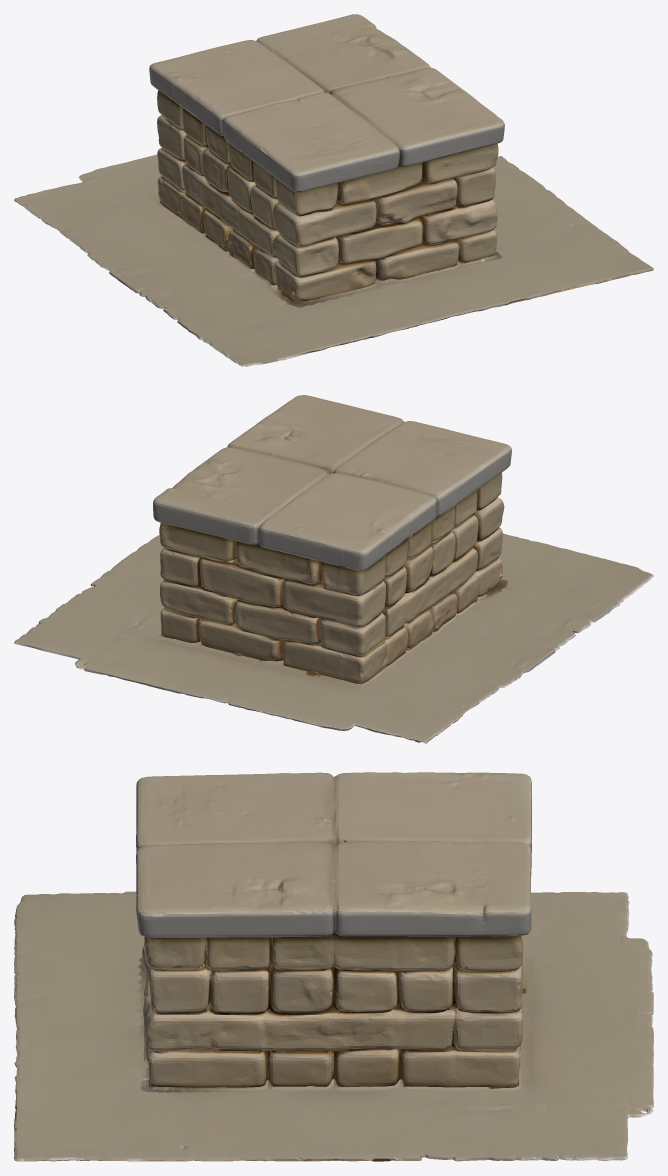
Rendered from wall.glb.
3 views of the same model, one above another, from view 1: azimuth 30°, elevation 25°; view 2: azimuth 150°, elevation 25°; view 3: azimuth 270°, elevation 25° (orthographic). The views are drawn at different scales.
Visible parts, largest first — view 1: textured_mesh.obj; view 2: textured_mesh.obj; view 3: textured_mesh.obj.
Part boxes in pixels (x1=…): textured_mesh.obj: x1=14, y1=14, x2=653, y2=366; textured_mesh.obj: x1=14, y1=395, x2=653, y2=743; textured_mesh.obj: x1=14, y1=772, x2=653, y2=1161.
Size of the model in its own units: 1.97 by 0.6553 by 1.99.
1 material, 1 textured.
